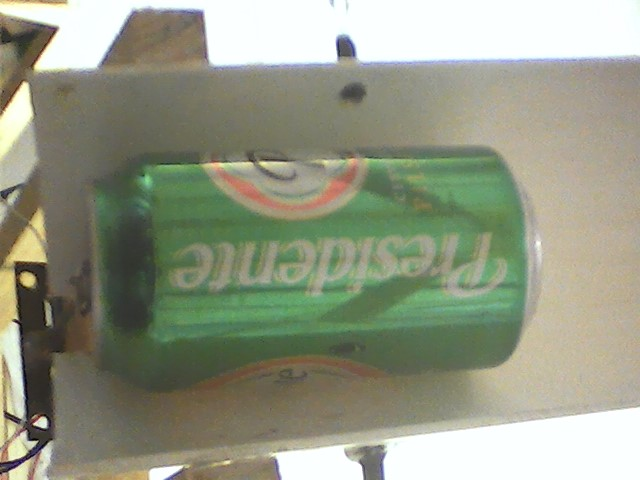lata: (74, 144, 550, 409)
